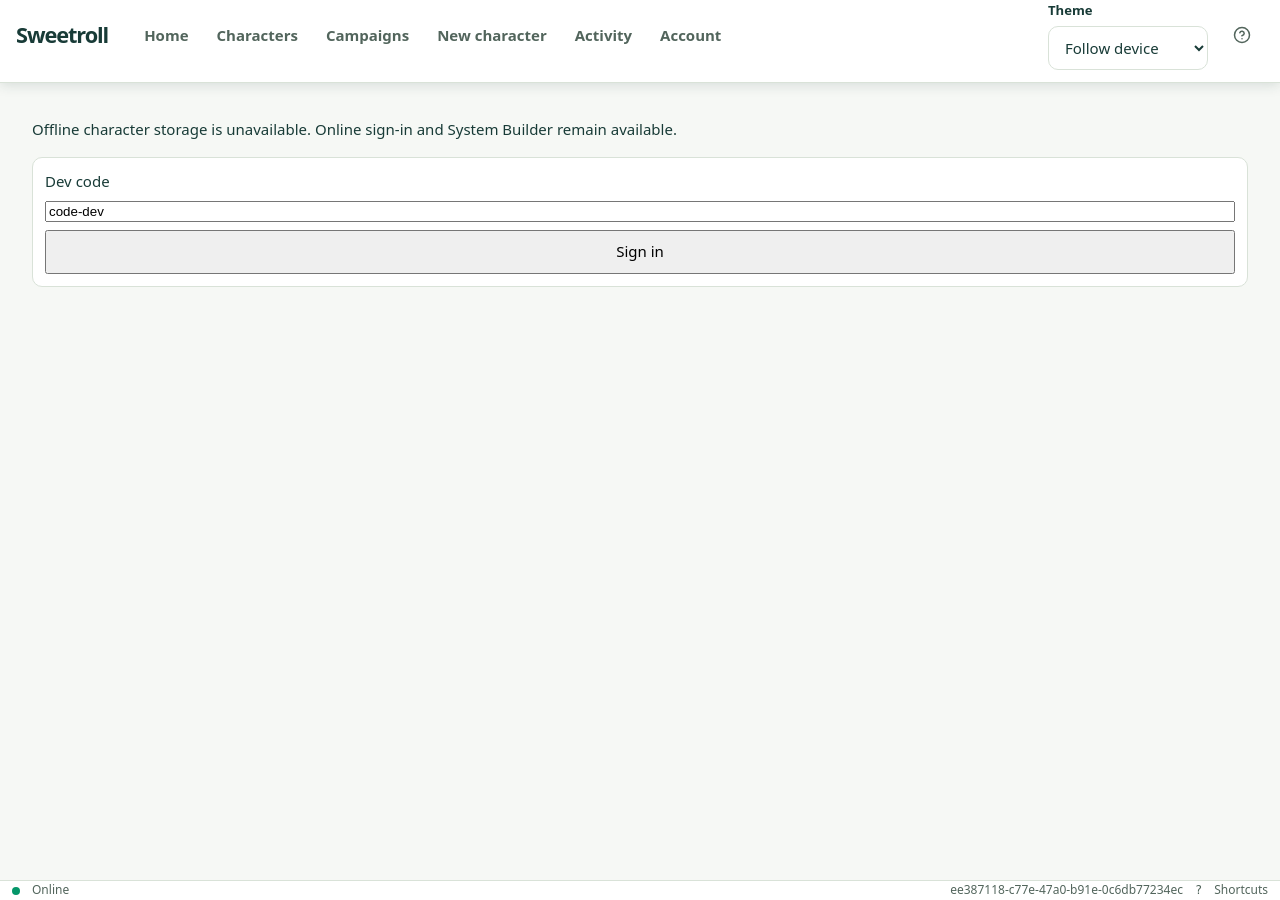
AppShell › keeps real dev sign-in working when character IndexedDB cannot open
Expected: the text "Offline character storage is unavailable" is shown, [32,119,677,139]
Click the button with test id "dev-signin".
click(640, 252)  # box [45,230,1235,274]
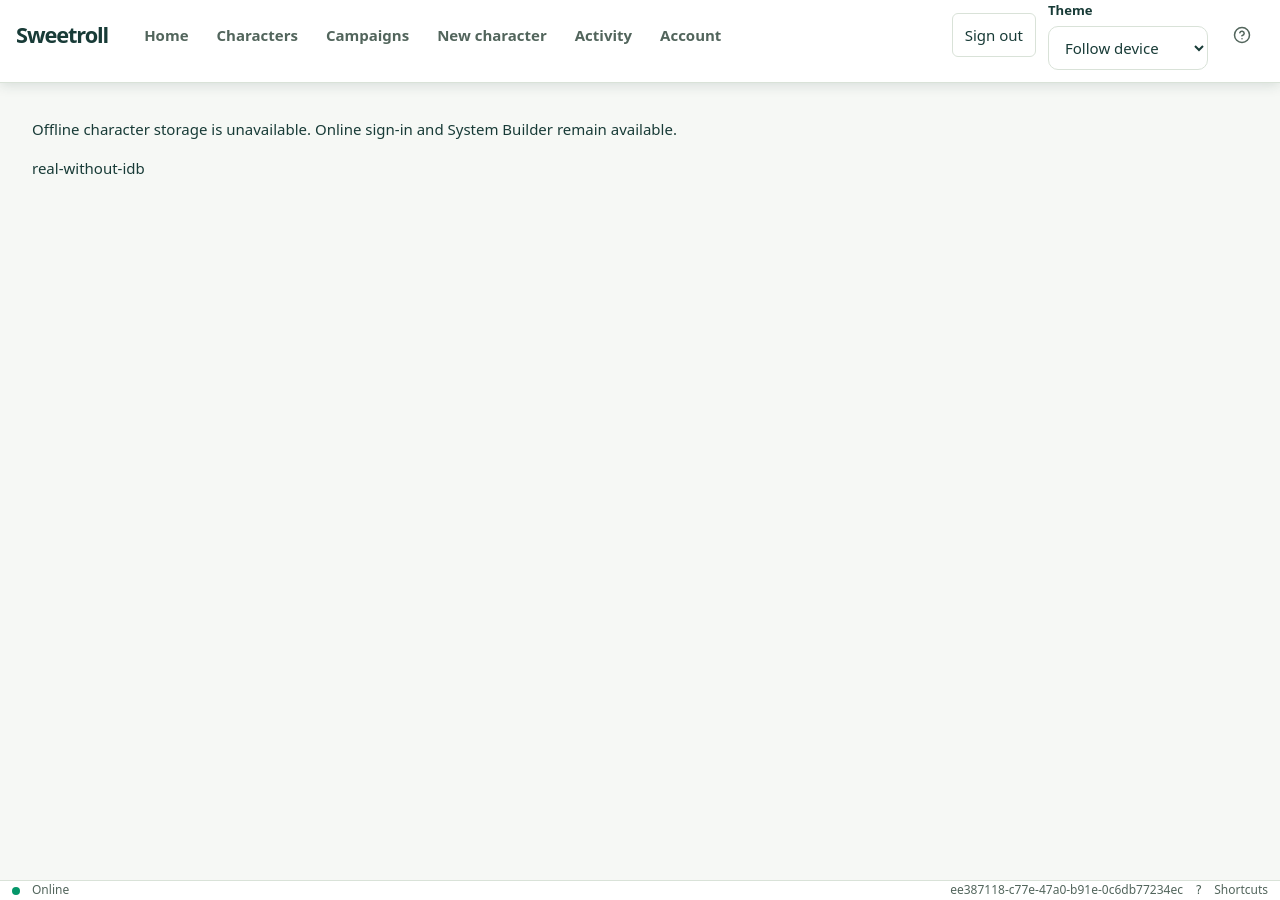
Expected: the text "real-without-idb" is shown, [32,158,145,178]
Click the button "Sign out".
click(994, 35)  # box [952,13,1036,57]
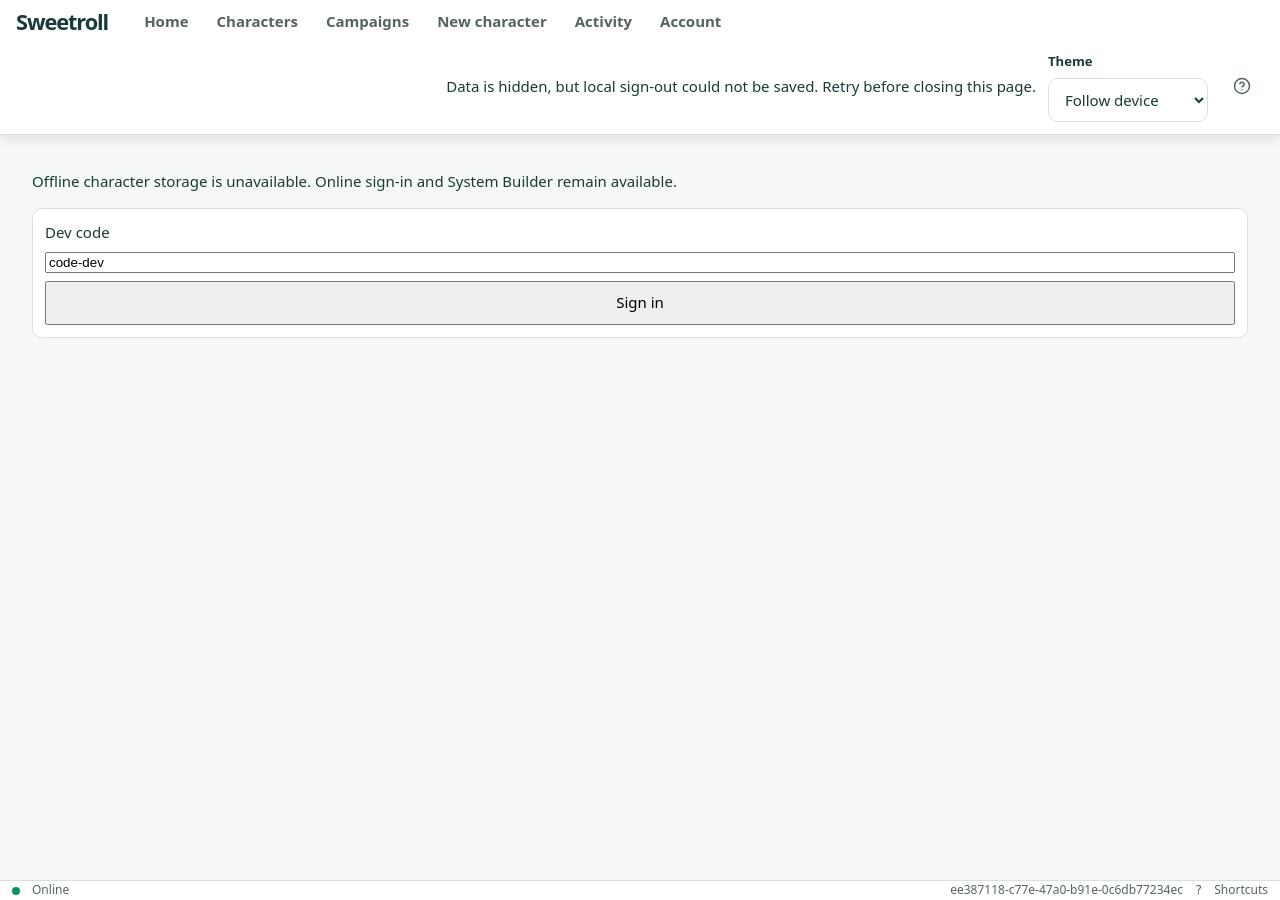
Expected: the text "local sign-out could not be saved" is shown, [446,76,1036,96]
